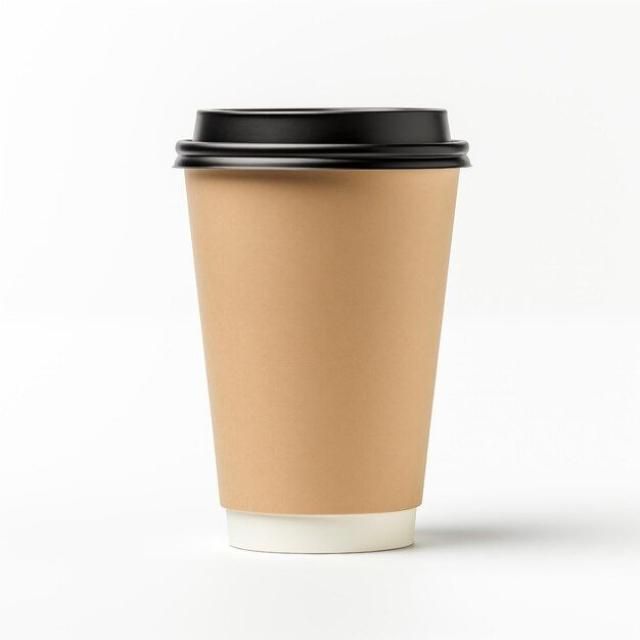paper cup: (171, 108, 473, 551)
